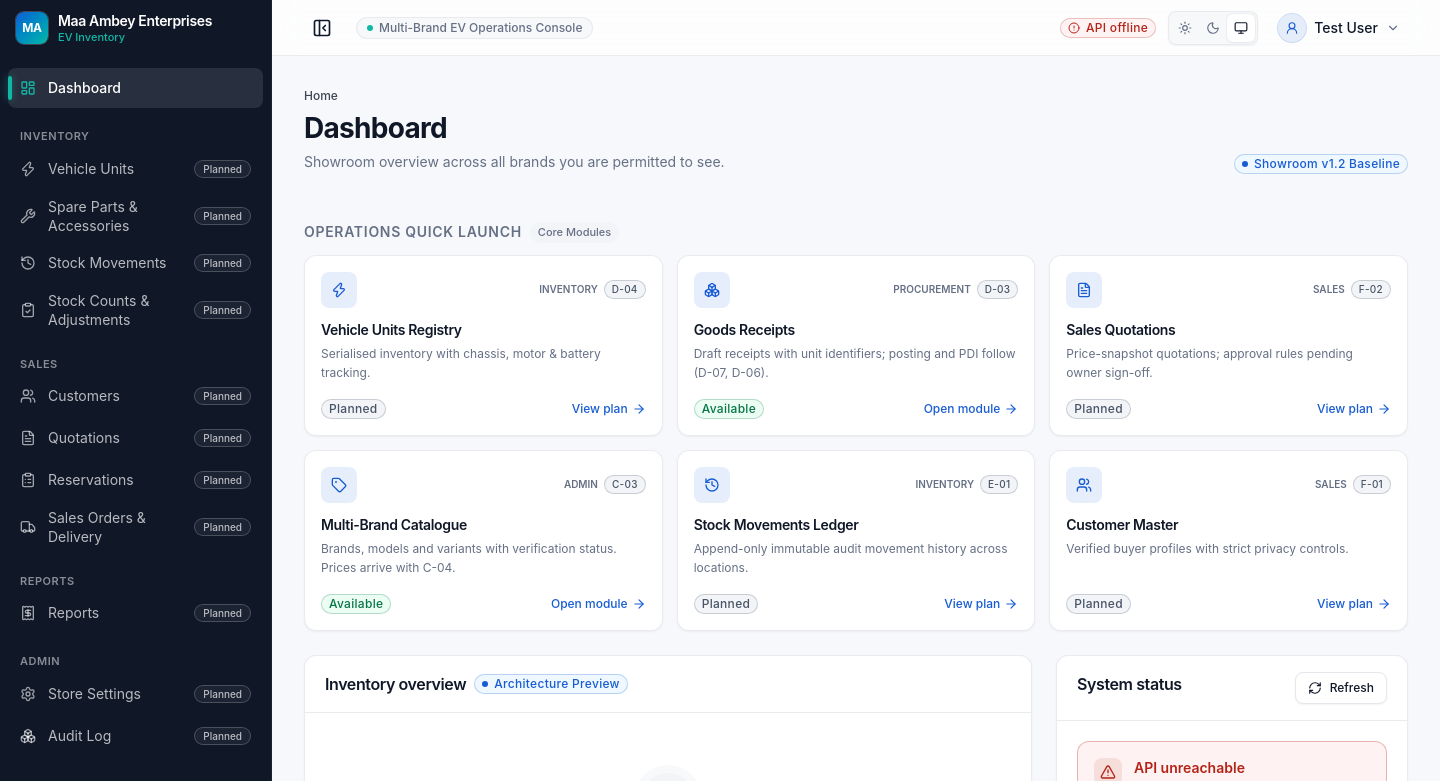
sidebar › keeps planned modules labelled as planned when collapsed
This screenshot has width=1440, height=781.
What coordinates should you click on to do the following:
click the button named "Collapse sidebar"
I would click on:
 (322, 28)
Its box is top-left (304, 10), bottom-right (340, 46).
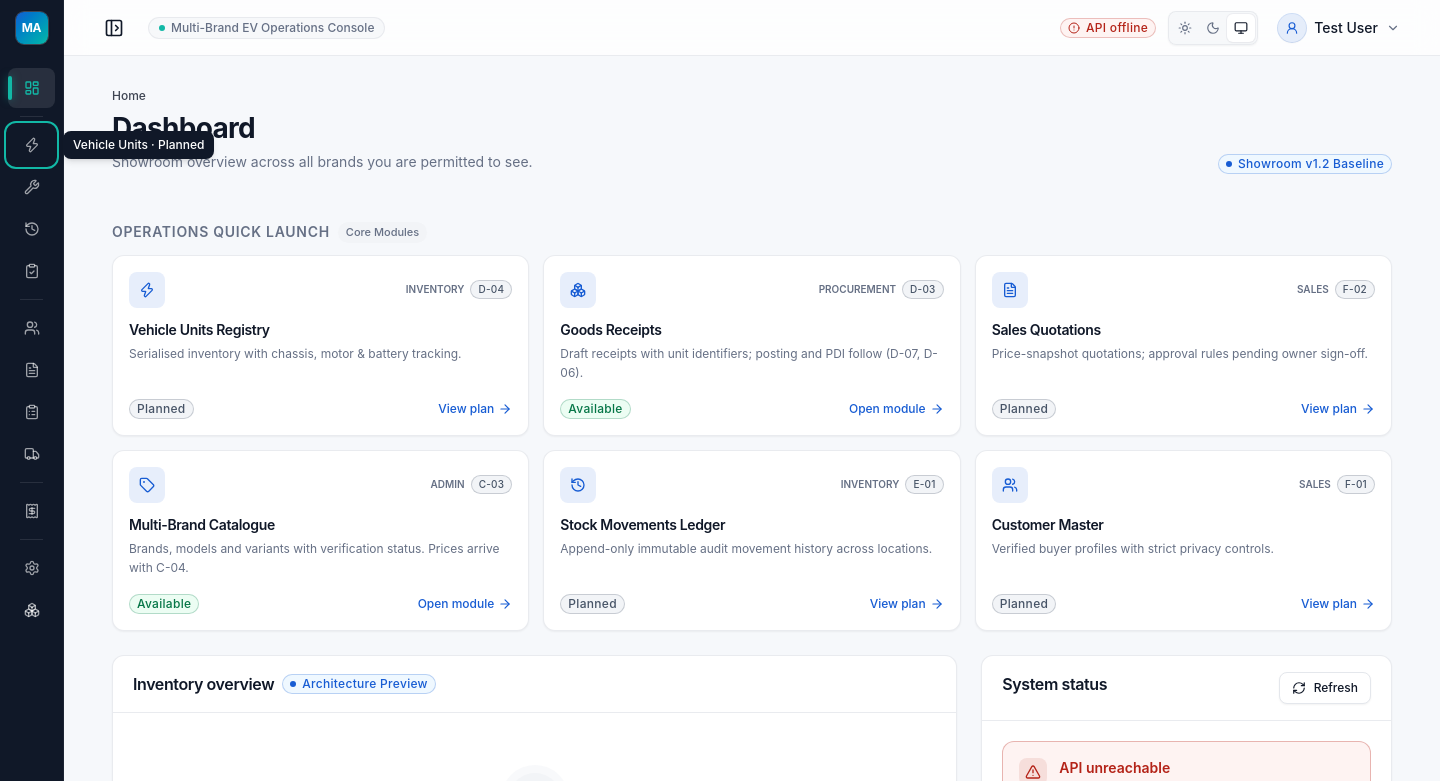
Expected: the tooltip reads "Vehicle Units · Planned", top-left (73, 137), bottom-right (204, 152)
